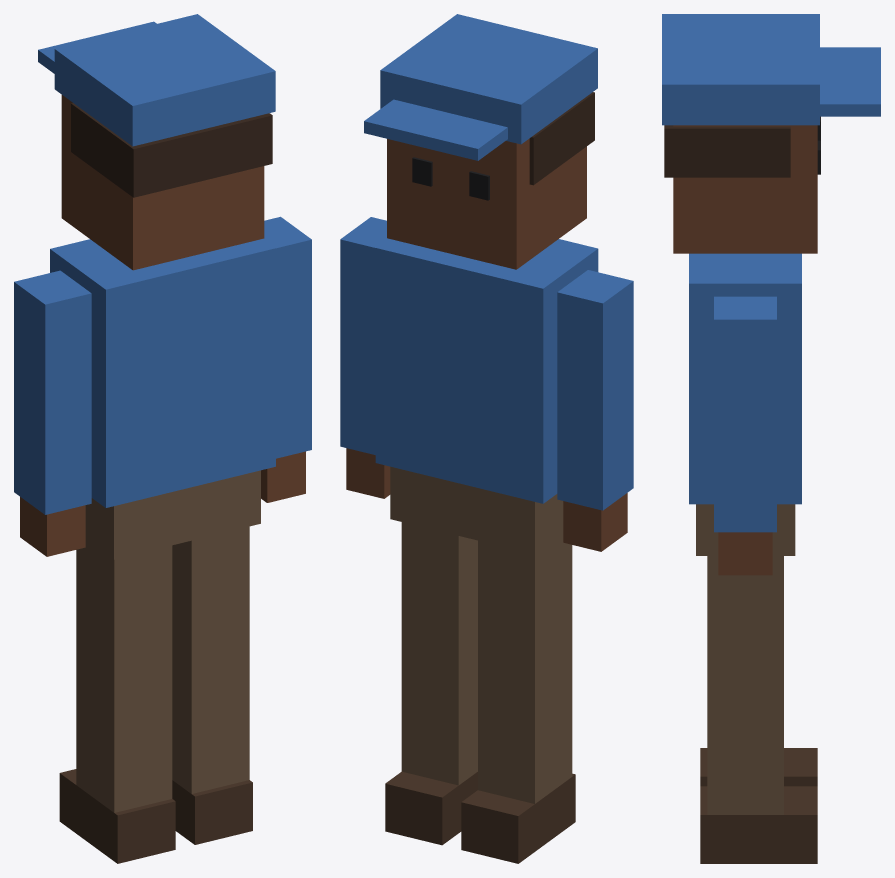
The model's file is worker_male_var.glb.
3 views of the same model, side by side, from view 1: azimuth 30°, elevation 25°; view 2: azimuth 150°, elevation 25°; view 3: azimuth 270°, elevation 25° (orthographic). The views are drawn at different scales.
Parts seen in each view (by area): view 1: worker_male_var.001; view 2: worker_male_var.001; view 3: worker_male_var.001.
Boxes of the visible parts, x1,y1,x2,y2 form: worker_male_var.001: [14, 14, 311, 863]; worker_male_var.001: [340, 14, 633, 863]; worker_male_var.001: [662, 14, 880, 863].
Bounding box in the file's own units: 0.69 × 1.91 × 0.485.
1 material, 1 textured.
